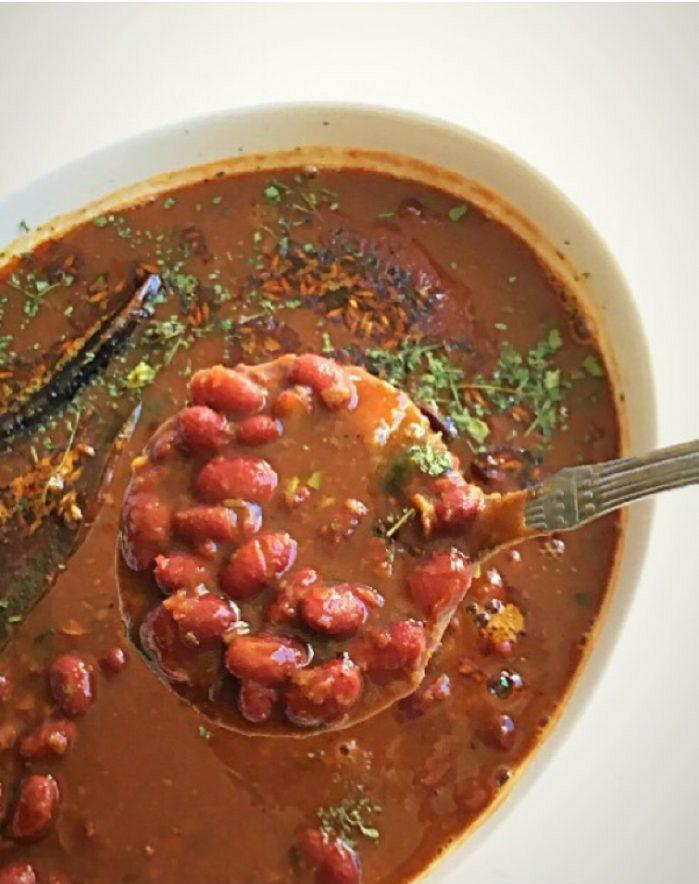RajmaCurry: (11, 153, 618, 884)
